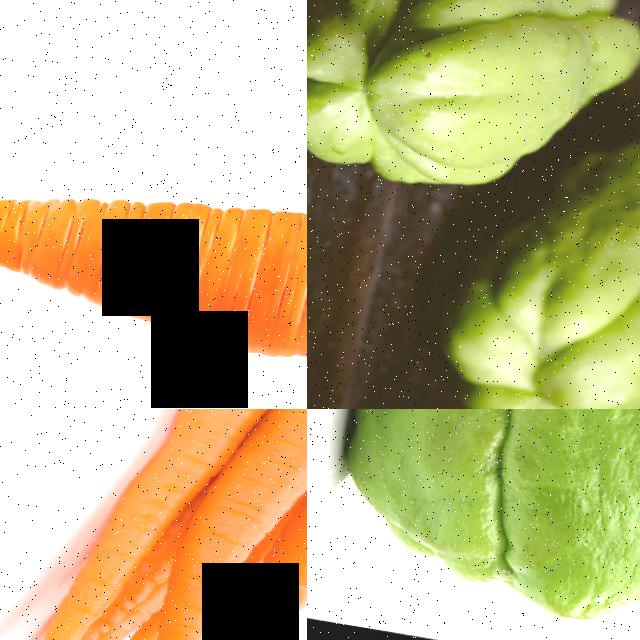carrot: (0, 78, 307, 399), (139, 409, 281, 604), (202, 409, 307, 640)
chayote: (307, 409, 640, 640), (307, 0, 640, 169), (499, 136, 640, 409)
